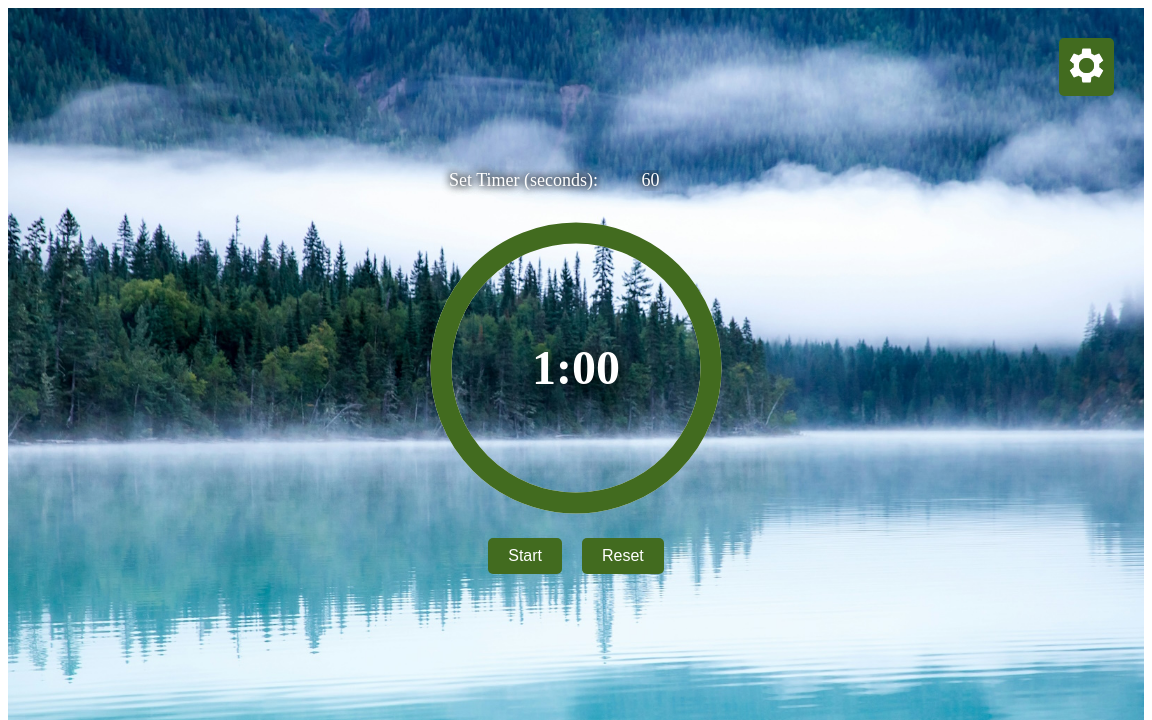
Test: Timer Component › resets the timer when Reset button is clicked
The width and height of the screenshot is (1152, 720).
// Start the timer
Click the button "Start" at [525, 556], box [488, 538, 562, 574]
Wait 5000 ms
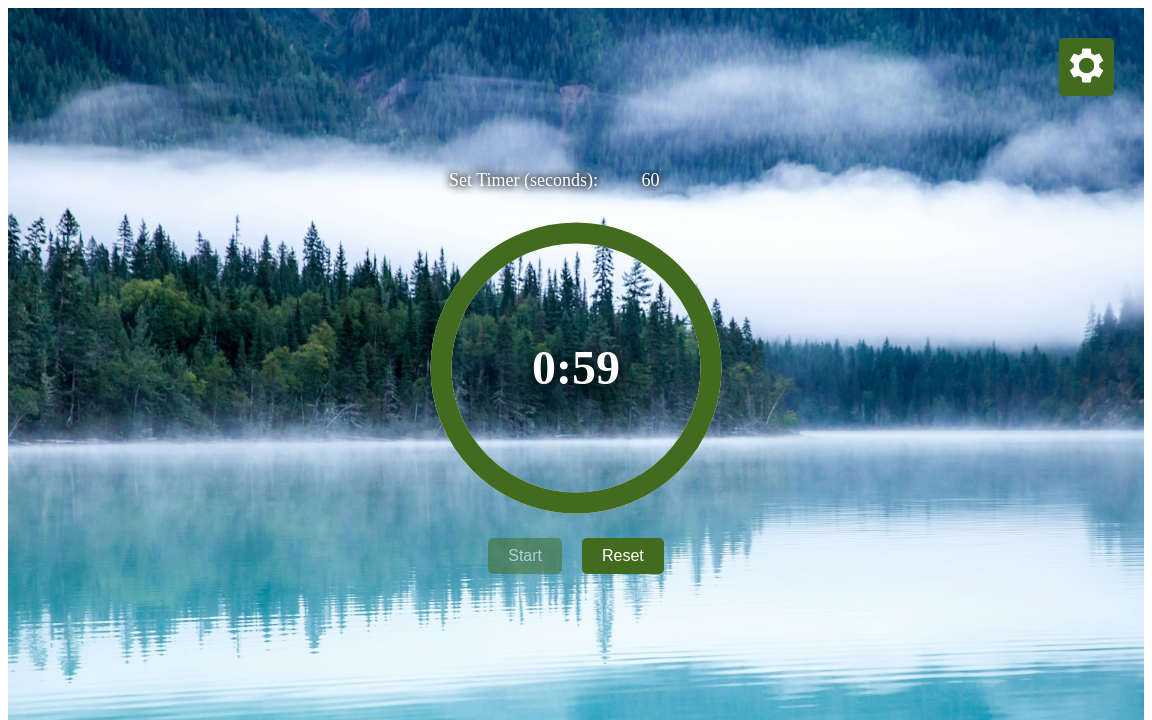
expect the text "0:59" no longer shows "1:00": met, box [532, 341, 620, 394]
// Click reset button and check that timer resets to initial value (0:20)
Click the button "Reset" at [623, 556], box [582, 538, 664, 574]
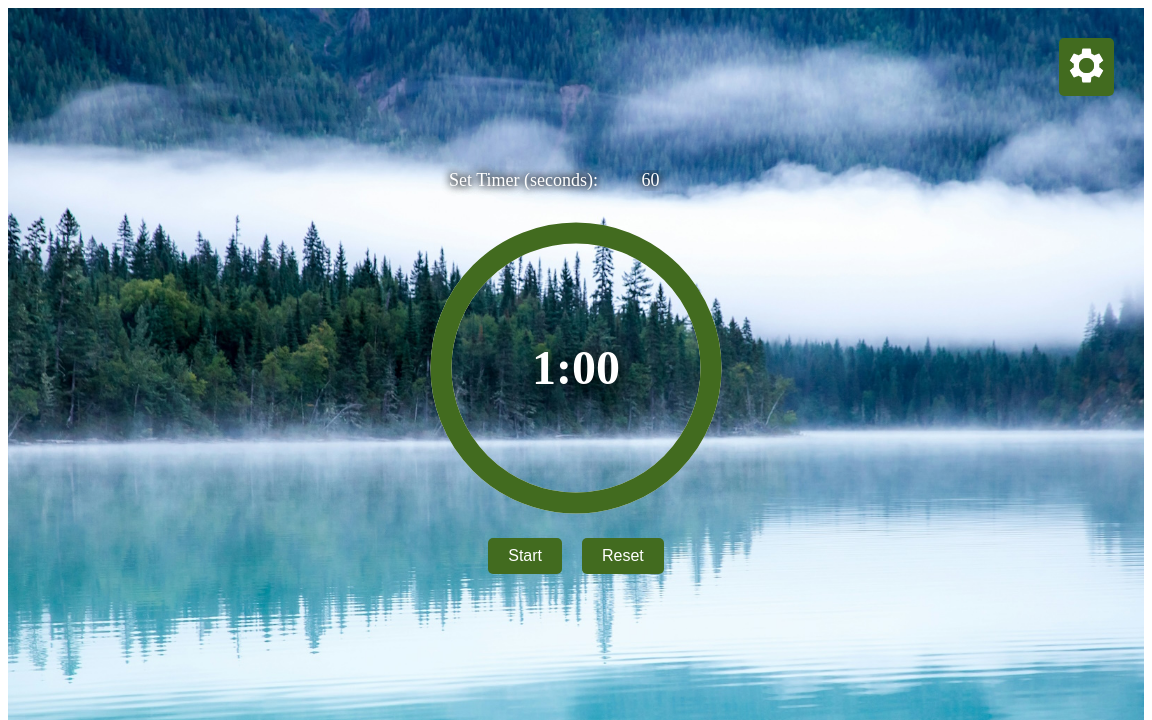
expect the text "1:00" is shown: met, box [532, 341, 620, 394]
expect the button "Start" is enabled: met, box [488, 538, 562, 574]
